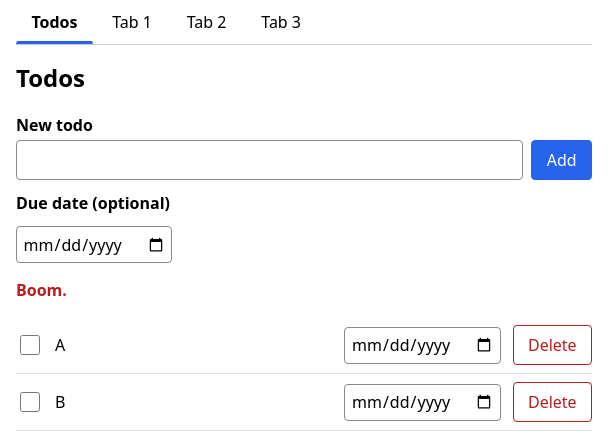
Test: UI14 #status › UI14 every action clears #status when it starts
Earlier steps of the test are not shown.
Later steps or results of the test are not shown.
Expected: the message with id "status" reads "Boom.", [16, 279, 67, 301]
Click the checkbox labelled "B". click: (30, 402)
box: [20, 392, 40, 412]
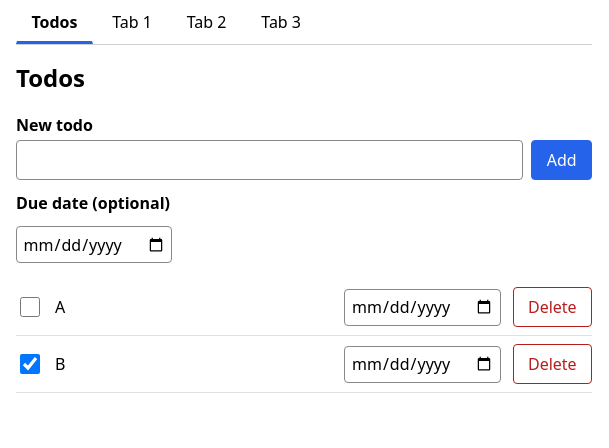
Click the 1st button with class "delete". click: (552, 307)
box: [513, 287, 592, 327]
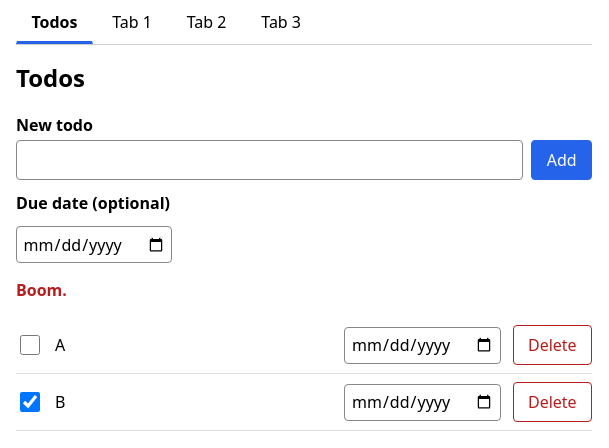
Expected: the message with id "status" reads "Boom.", [16, 279, 67, 301]
Type "2026-06-16" into the date field named "Due date for \"A\"". click: (422, 345)
box: [344, 326, 501, 364]
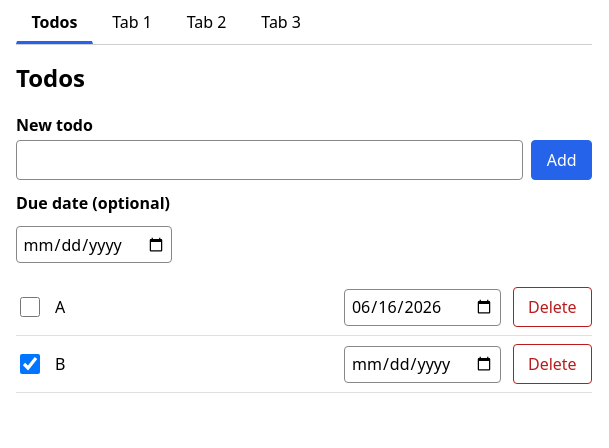
Click the checkbox with id "todo-1". click: (30, 307)
box: [20, 297, 40, 317]
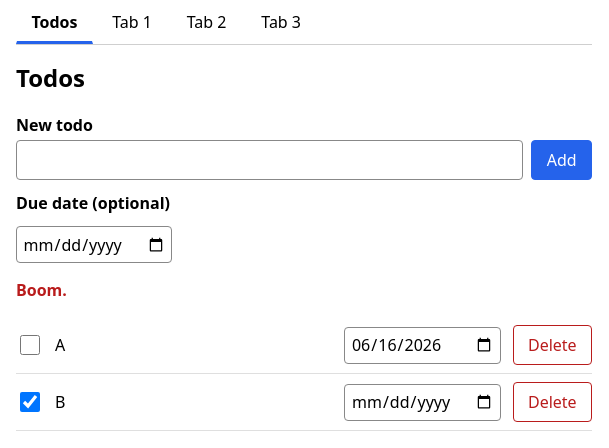
Expected: the message with id "status" reads "Boom.", [16, 279, 67, 301]
Click the 1st button with class "delete". click: (552, 345)
box: [513, 325, 592, 365]
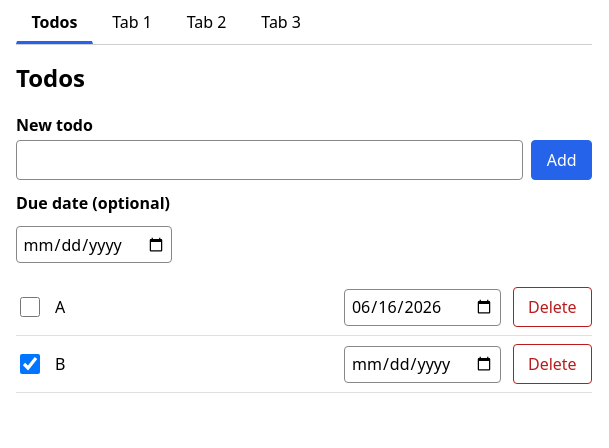
Click the checkbox with id "todo-1". click: (30, 307)
box: [20, 297, 40, 317]
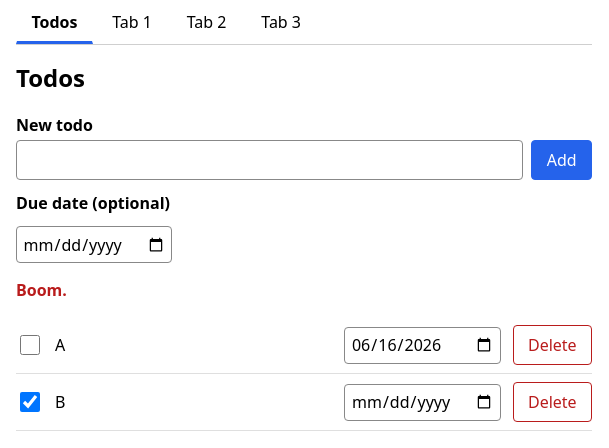
Expected: the message with id "status" reads "Boom.", [16, 279, 67, 301]
